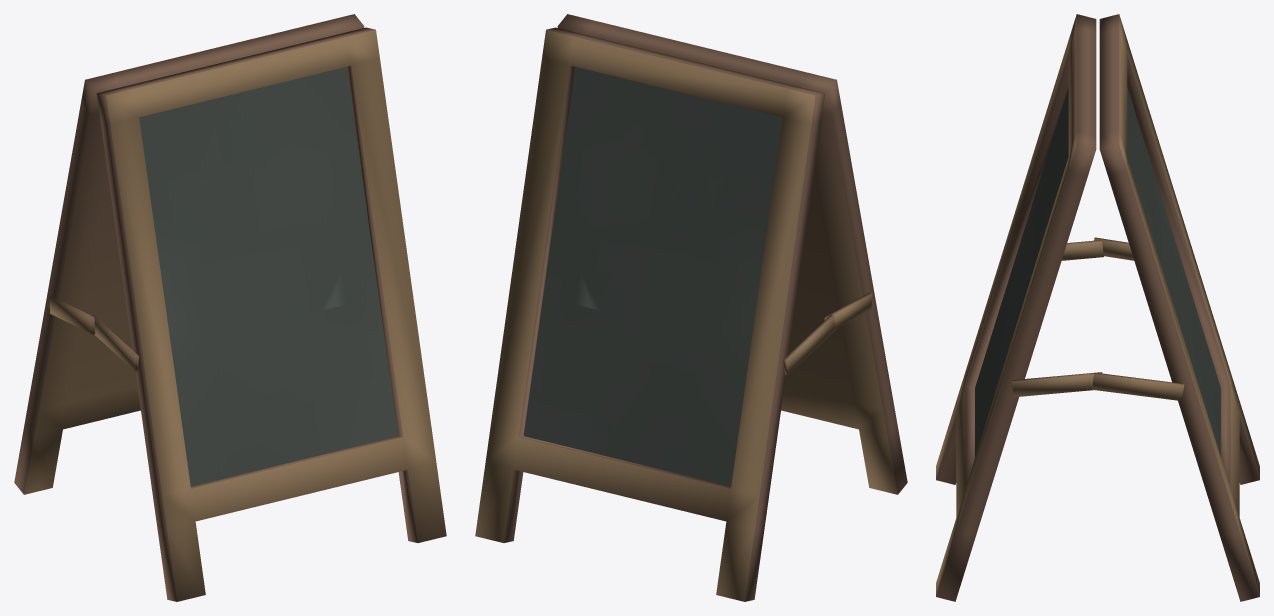
File: furnishings-signs-sidewalksign_v1.glb
The picture shows the model from 3 angles, left to right: view 1: azimuth 30°, elevation 25°; view 2: azimuth 150°, elevation 25°; view 3: azimuth 270°, elevation 25°; orthographic projection.
Parts seen in each view (by area): view 1: SidewalkSign.001; view 2: SidewalkSign.001; view 3: SidewalkSign.001.
Boxes of the visible parts, <box> form: SidewalkSign.001: <box>14,14,446,601</box>; SidewalkSign.001: <box>475,14,907,601</box>; SidewalkSign.001: <box>936,14,1259,601</box>.
Size of the model in its own units: 0.5902 by 0.9186 by 0.59.
